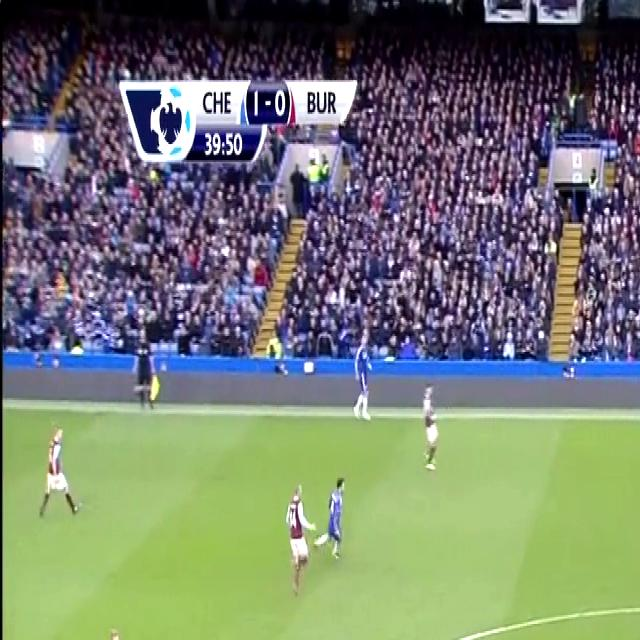referee: (126, 322, 160, 426)
soccer-player: (34, 416, 88, 526), (275, 476, 315, 602), (317, 465, 350, 573), (418, 374, 446, 483), (347, 332, 374, 423), (90, 613, 133, 640)
